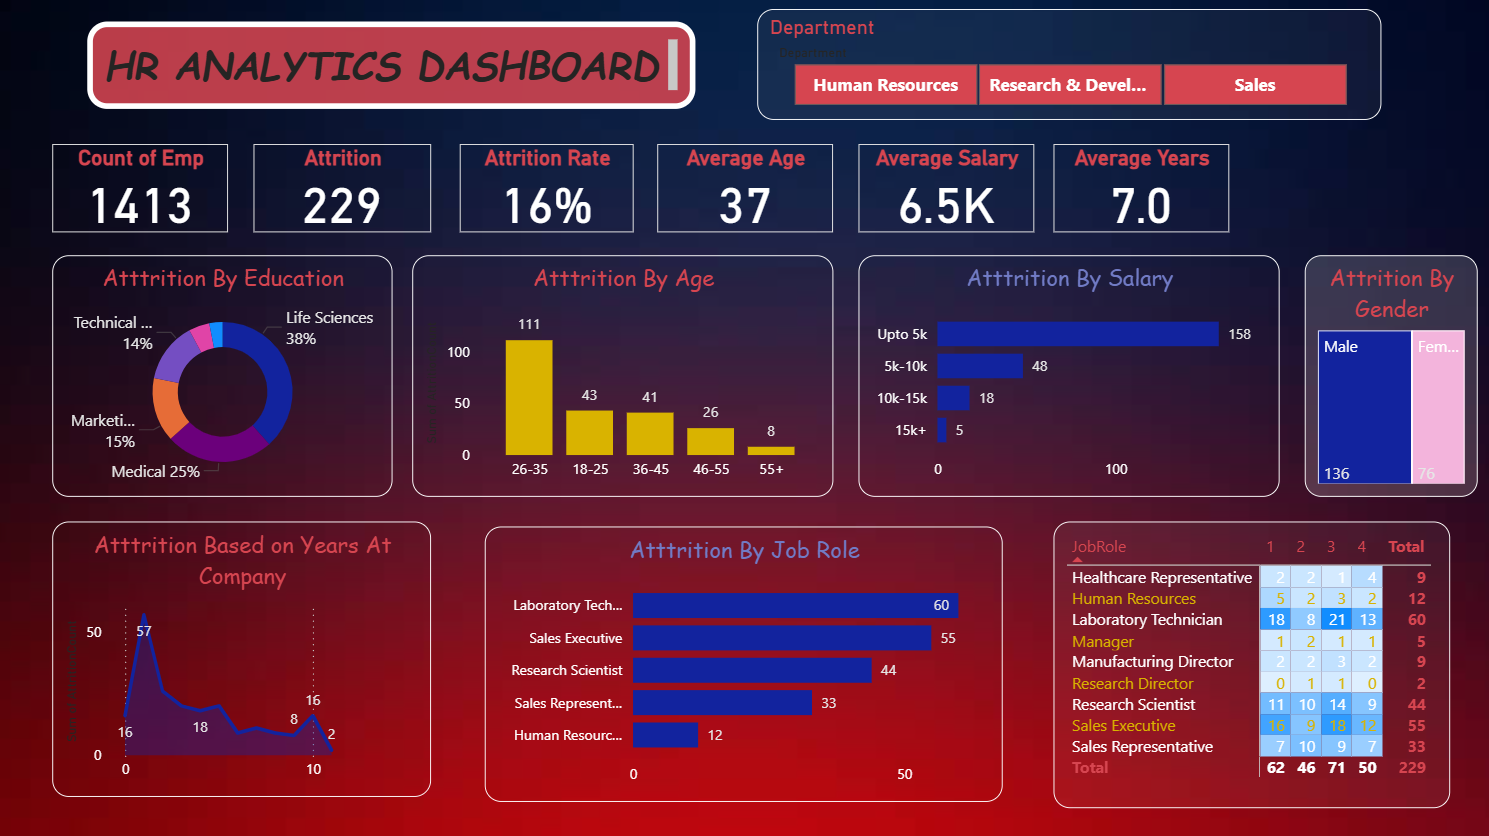

This screenshot's page, from the dashboard's own definition file:
{"tool":"powerbi","page":{"name":"Page 1","canvas":[1280,720],"ordinal":0},"visuals":[{"type":"card","title":"Count of Emp","fields":{"Values":["CountNonNull(HR_Analytics.EmpID)"]},"box":[52.1,127.6,149.6,75.5],"z":0},{"type":"card","title":"Attrition","fields":{"Values":["Sum(HR_Analytics.AttritionCount)","select"]},"box":[223.7,127.6,150.9,75.5],"z":1000},{"type":"card","title":"Attrition Rate","fields":{"Values":["HR_Analytics.AttritionRate"]},"box":[399.3,127.6,148.2,75.5],"z":2000},{"type":"card","title":"Average Age","fields":{"Values":["Avg(HR_Analytics.Age)"]},"box":[566.7,127.6,149.6,75.5],"z":3000},{"type":"card","title":"Average Years","fields":{"Values":["Avg(HR_Analytics.YearsAtCompany)"]},"box":[904.3,127.6,149.6,75.5],"z":4000},{"type":"card","title":"Average Salary","fields":{"Values":["Avg(HR_Analytics.MonthlyIncome)"]},"box":[738.3,127.6,149.6,75.5],"z":5000},{"type":"donutChart","title":"Atttrition By Education","fields":{"Category":["HR_Analytics.EducationField"],"Y":["Sum(HR_Analytics.AttritionCount)"]},"box":[52.1,222.3,289.5,205.8],"z":6000},{"type":"columnChart","title":"Atttrition By Age","fields":{"Category":["HR_Analytics.AgeGroup"],"Y":["Sum(HR_Analytics.AttritionCount)"]},"box":[358.1,222.3,358.1,205.8],"z":7000},{"type":"pivotTable","fields":{"Rows":["HR_Analytics.JobRole"],"Columns":["HR_Analytics.JobSatisfaction"],"Values":["Sum(HR_Analytics.AttritionCount)"]},"box":[904.3,448.7,337.6,244.3],"z":8000},{"type":"barChart","title":"Atttrition By Salary","fields":{"Category":["HR_Analytics.SalarySlab"],"Y":["Sum(HR_Analytics.AttritionCount)"]},"box":[738.3,222.3,358.1,205.8],"z":9000},{"type":"barChart","title":"Atttrition By Job Role","fields":{"Category":["HR_Analytics.JobRole"],"Y":["Sum(HR_Analytics.AttritionCount)"]},"box":[419.9,452.8,440.5,234.6],"z":10000},{"type":"areaChart","title":"Atttrition Based on Years At Company","fields":{"Category":["HR_Analytics.YearsAtCompany"],"Y":["Sum(HR_Analytics.AttritionCount)"]},"box":[52.1,448.7,322.5,234.6],"z":11000},{"type":"treemap","title":"Attrition By Gender","fields":{"Group":["HR_Analytics.Gender"],"Values":["Sum(HR_Analytics.AttritionCount)"]},"box":[1118.4,222.3,146.8,205.8],"z":12000},{"type":"slicer","title":"Department","fields":{"Values":["HR_Analytics.Department"]},"box":[651.8,12.3,531,94.7],"z":13000},{"type":"textbox","box":[82.3,23.3,517.3,74.1],"z":13001}]}

Visuals, with their boxes in screenshot pixels (x1, y1, x2, y2), scaled from the page's 1280x720 canvas onto the 1489x836 screenshot:
"Count of Emp" card: [left=61, top=148, right=235, bottom=236]
"Attrition" card: [left=260, top=148, right=436, bottom=236]
"Attrition Rate" card: [left=464, top=148, right=637, bottom=236]
"Average Age" card: [left=659, top=148, right=833, bottom=236]
"Average Years" card: [left=1052, top=148, right=1226, bottom=236]
"Average Salary" card: [left=859, top=148, right=1033, bottom=236]
"Atttrition By Education" donutChart: [left=61, top=258, right=397, bottom=497]
"Atttrition By Age" columnChart: [left=417, top=258, right=833, bottom=497]
pivotTable - HR_Analytics.JobRole x HR_Analytics.JobSatisfaction: [left=1052, top=521, right=1445, bottom=805]
"Atttrition By Salary" barChart: [left=859, top=258, right=1275, bottom=497]
"Atttrition By Job Role" barChart: [left=488, top=526, right=1001, bottom=798]
"Atttrition Based on Years At Company" areaChart: [left=61, top=521, right=436, bottom=793]
"Attrition By Gender" treemap: [left=1301, top=258, right=1472, bottom=497]
"Department" slicer: [left=758, top=14, right=1376, bottom=124]
textbox: [left=96, top=27, right=698, bottom=113]
